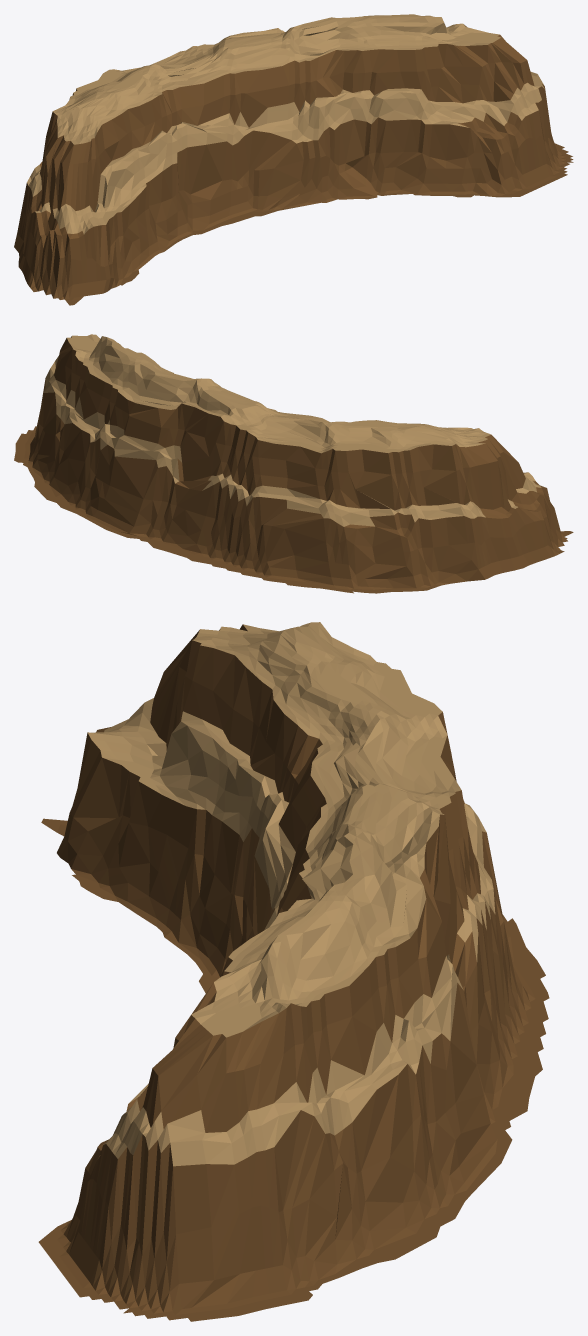
Rendered from Mountain3.fbx.
3 views of the same model, one above another, from view 1: azimuth 30°, elevation 25°; view 2: azimuth 150°, elevation 25°; view 3: azimuth 270°, elevation 25° (orthographic). The views are drawn at different scales.
Visible parts, largest first — view 1: Mountain4; view 2: Mountain4; view 3: Mountain4.
Boxes of the visible parts, box(x1,y1,x2,y2) form: Mountain4: box(14, 14, 573, 305); Mountain4: box(14, 334, 573, 593); Mountain4: box(38, 622, 549, 1321).
Bounding box in the file's own units: 11632 × 2928 × 4873.
